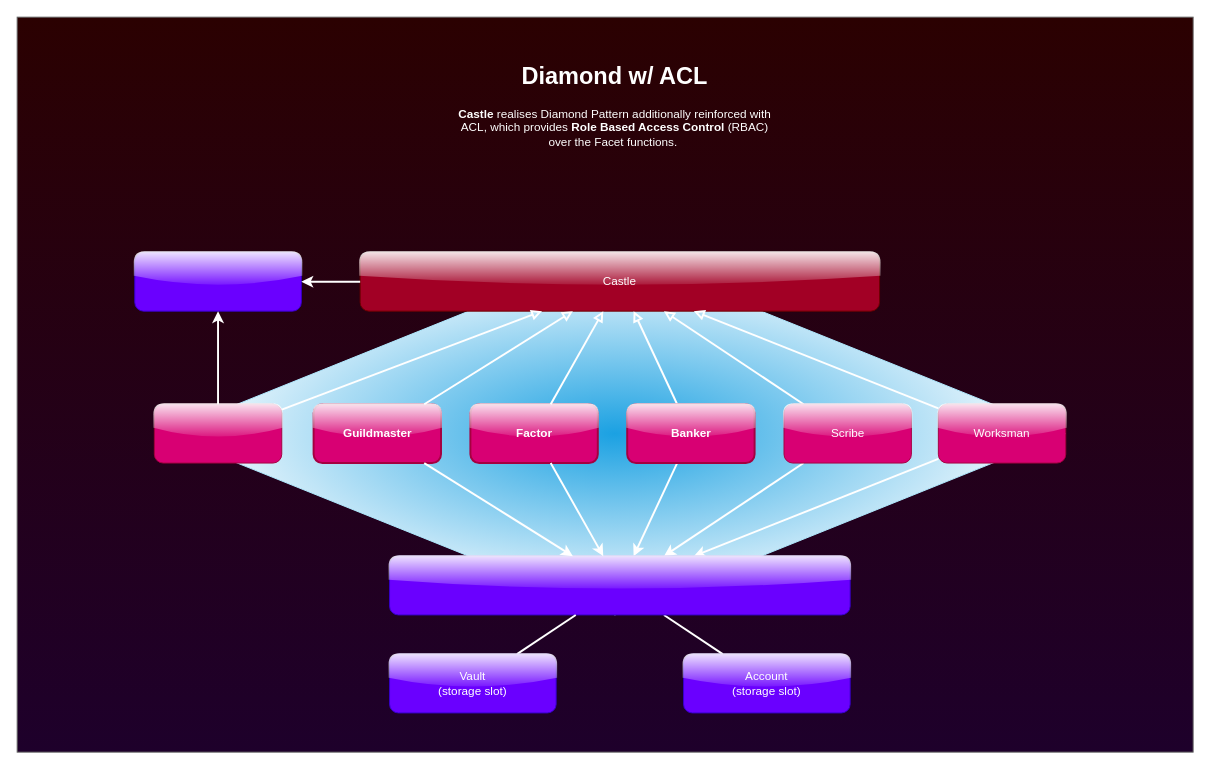
Image size: 1210x769. Some labels were removed from this diagram. The shapes that lost their labels are listed below. From the top down, each one's box as (x1, y1, x2, y2) in pixels, then its label:
(134, 251, 301, 311): Castle (storage slot)
(153, 403, 282, 463): Constable
(389, 555, 850, 615): Keep (storage slot)
